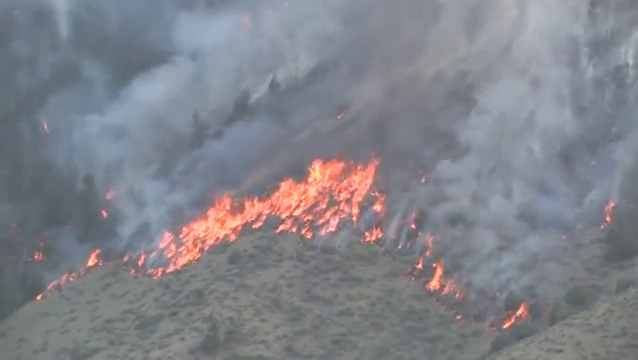fire: (155, 161, 383, 277), (426, 264, 441, 288)
